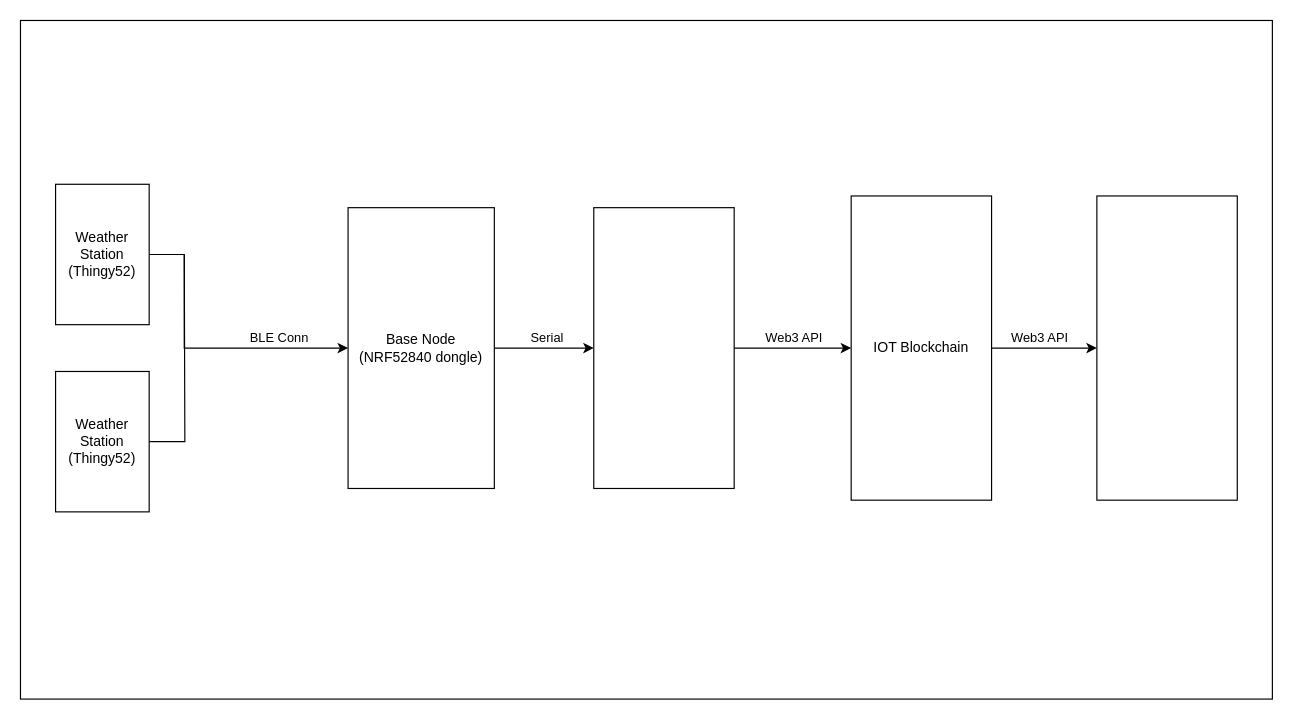
Image size: 1293x720. Some labels were removed from this diagram. The centre of each missing label's shape, as x and y in pixels:
"PC (Data aggregation)" goes at (x=663, y=347).
"Web dashboard" goes at (x=1166, y=347).
